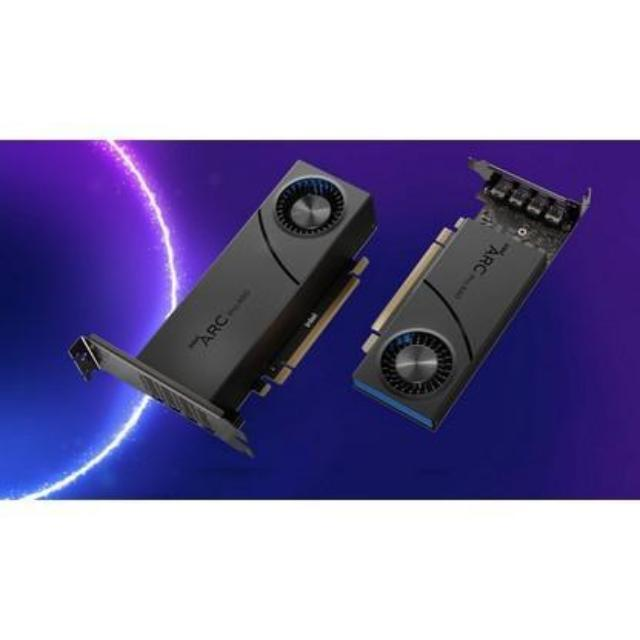GPU: (108, 149, 380, 431), (349, 150, 569, 436)
